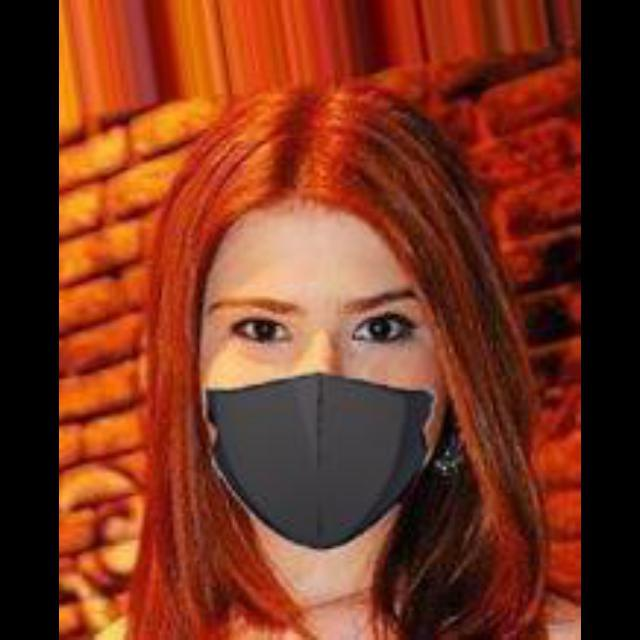suspicion: (178, 73, 480, 557)
